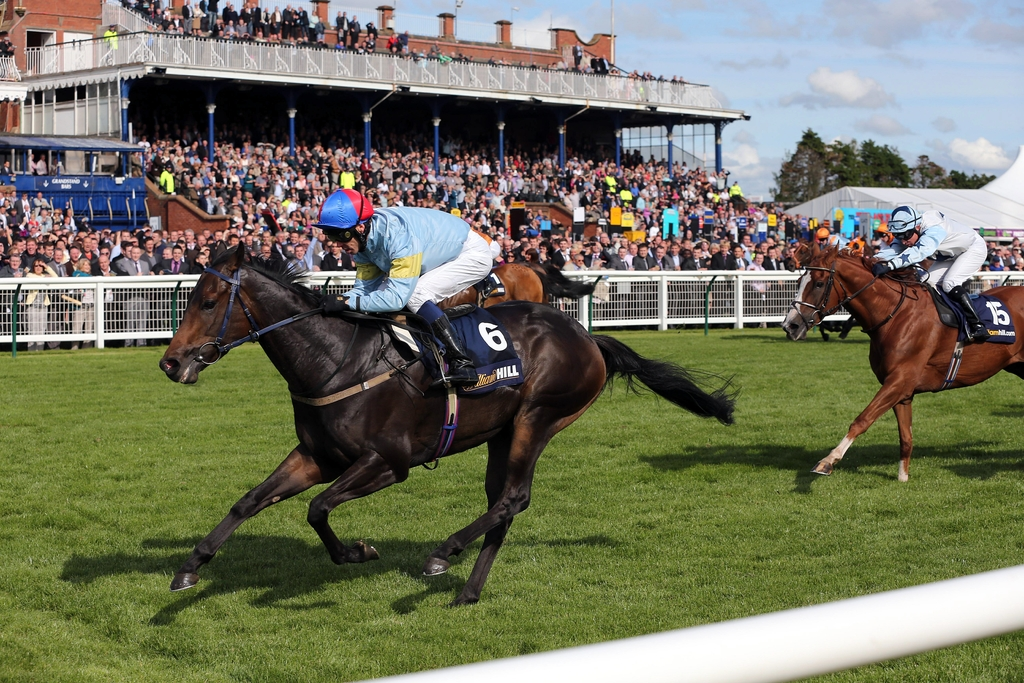horse: (159, 239, 743, 609)
